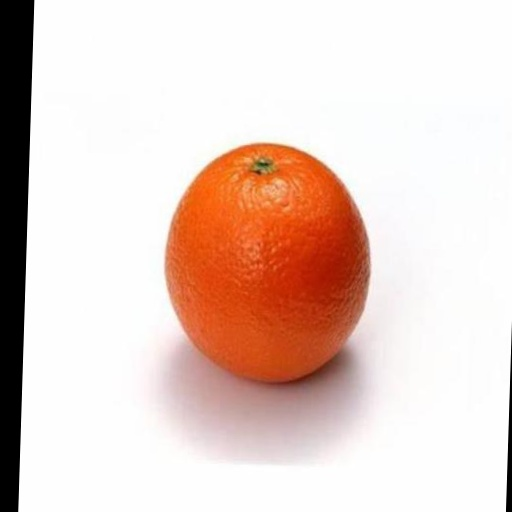fruit: (166, 145, 369, 382)
